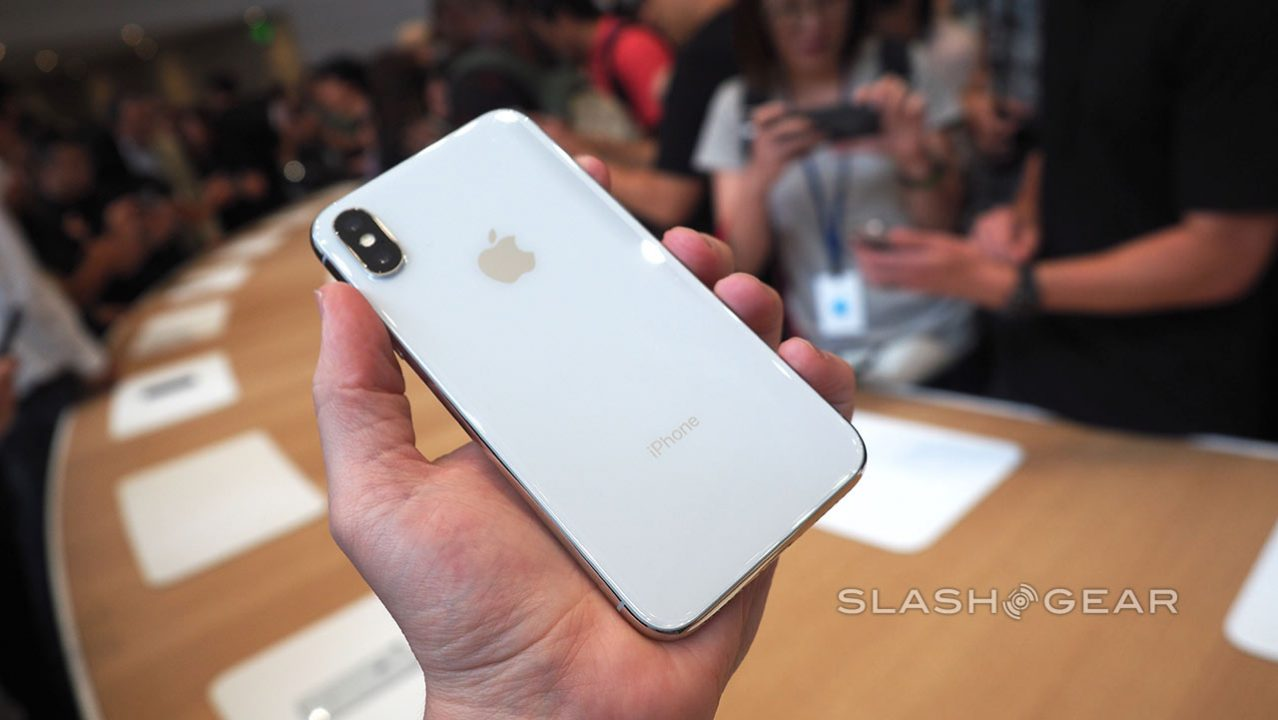smartphone: (309, 107, 870, 644)
